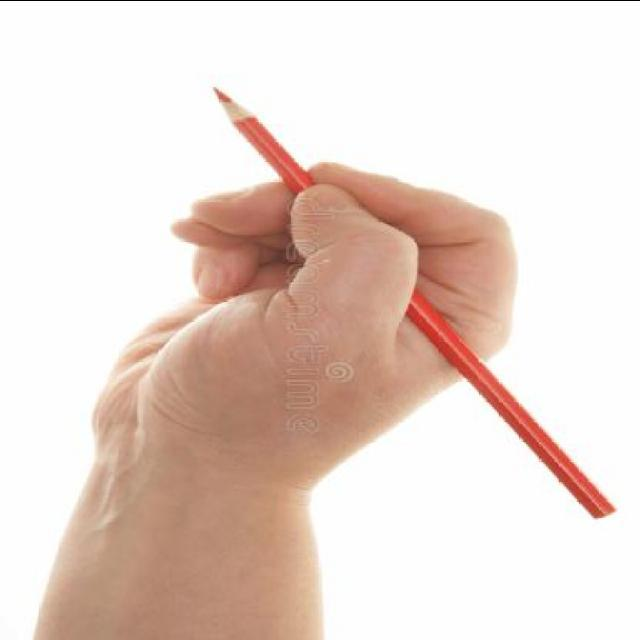Pencil: (207, 80, 261, 132)
